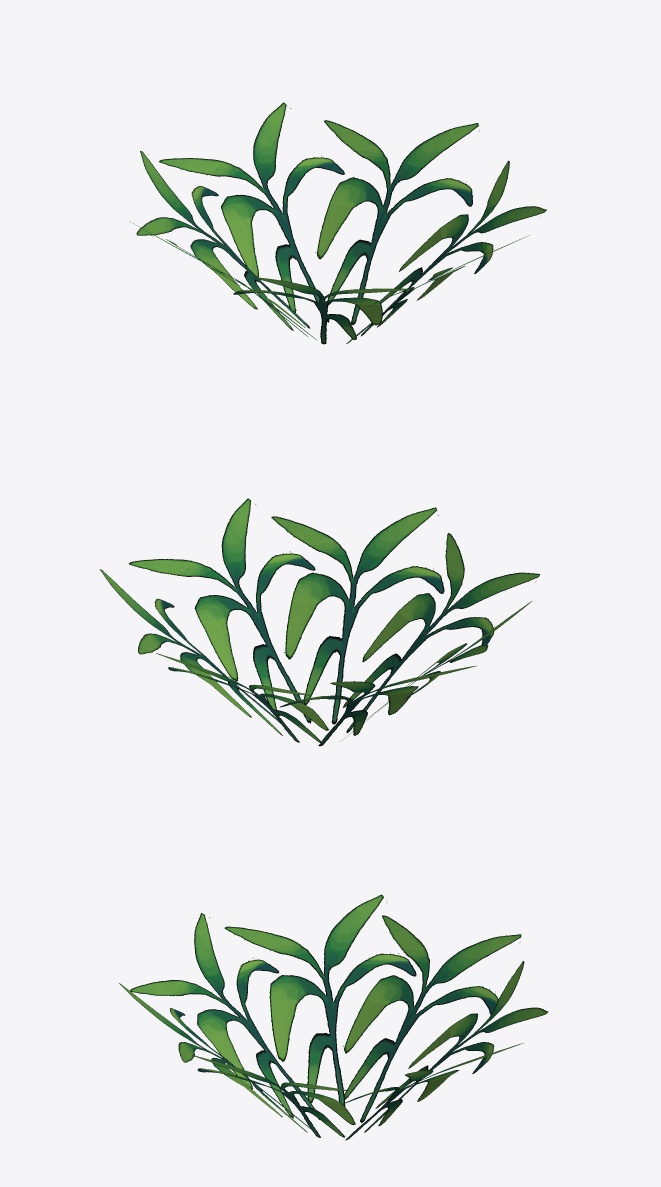
Rendered from Hemp_33.fbx.
3 renders of one model, top to bottom at view 1: azimuth 30°, elevation 25°; view 2: azimuth 150°, elevation 25°; view 3: azimuth 270°, elevation 25°, orthographic. The views are drawn at different scales.
Parts seen in each view (by area): view 1: Hemp_33; view 2: Hemp_33; view 3: Hemp_33.
Part boxes in pixels (x1,y1,x2,y2): Hemp_33: (129,102,546,344); Hemp_33: (99,498,540,746); Hemp_33: (119,894,548,1140).
Bounding box in the file's own units: 274 × 98.32 × 269.
